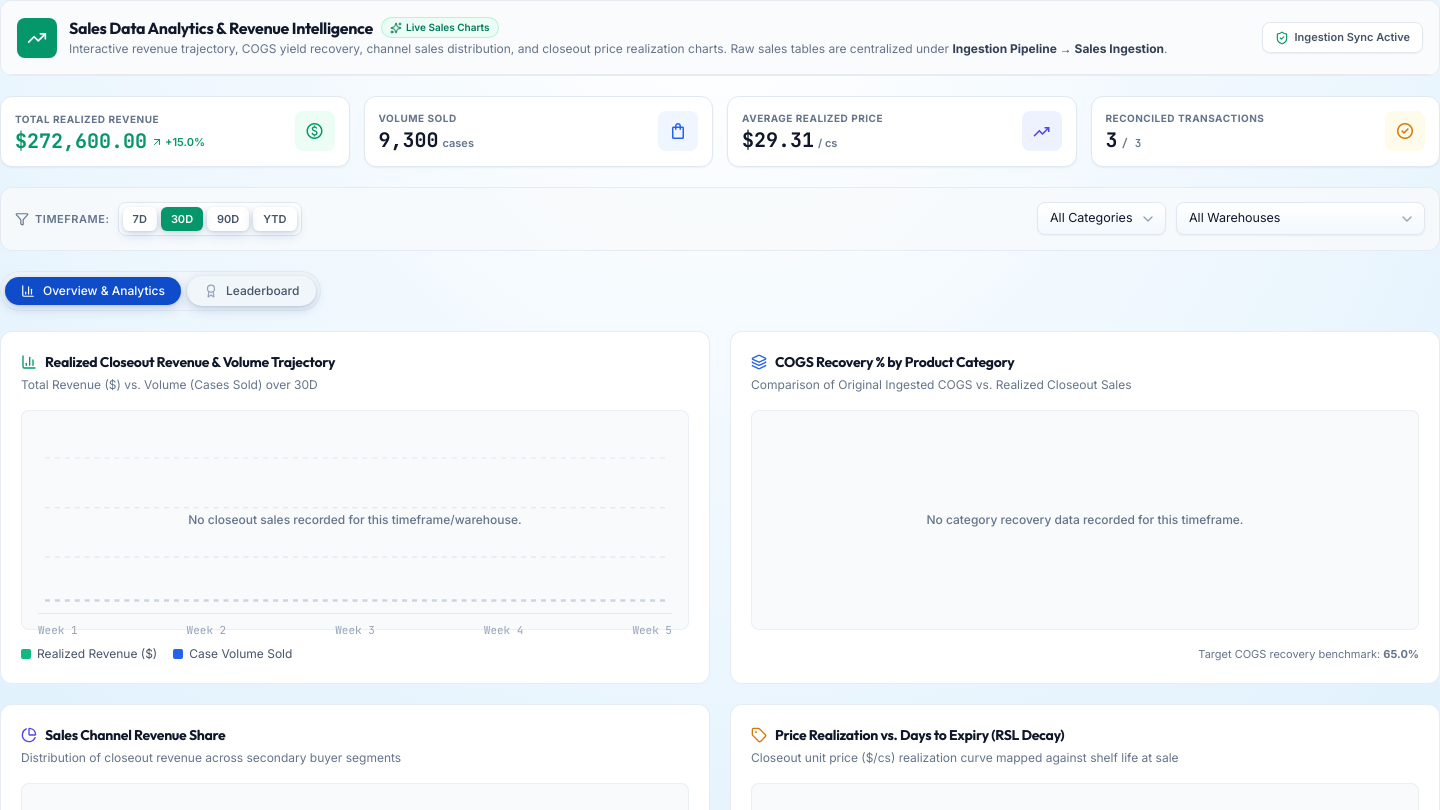
Seam: Top Warehouses / DCs Expandable Accordion & Drilldown › renders a friendly empty state when no top warehouses are returned
Click the tab "Leaderboard".
click(252, 291)  # box 187,276 -> 316,306
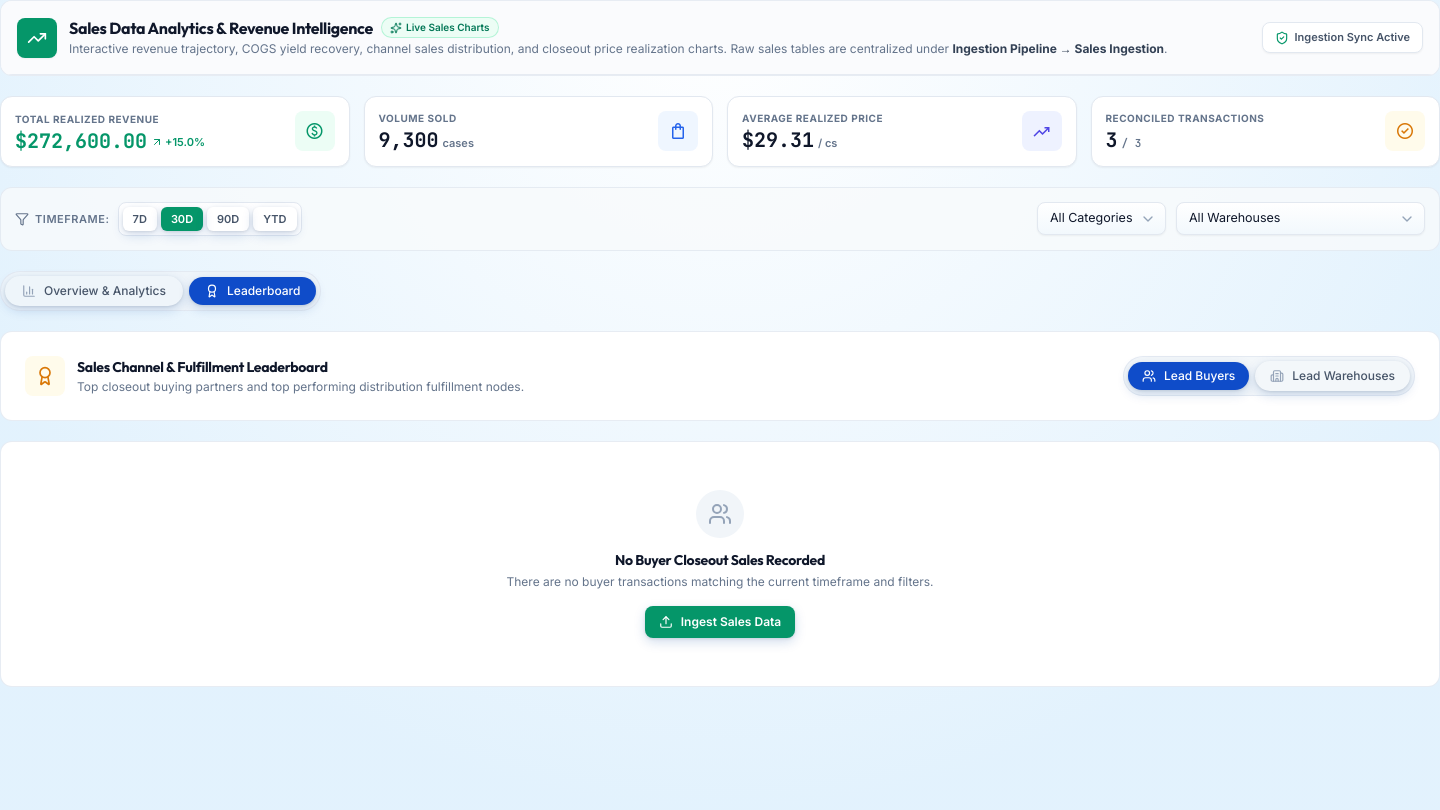
Click the tab "Lead Warehouses".
click(1333, 376)  # box 1255,361 -> 1410,391
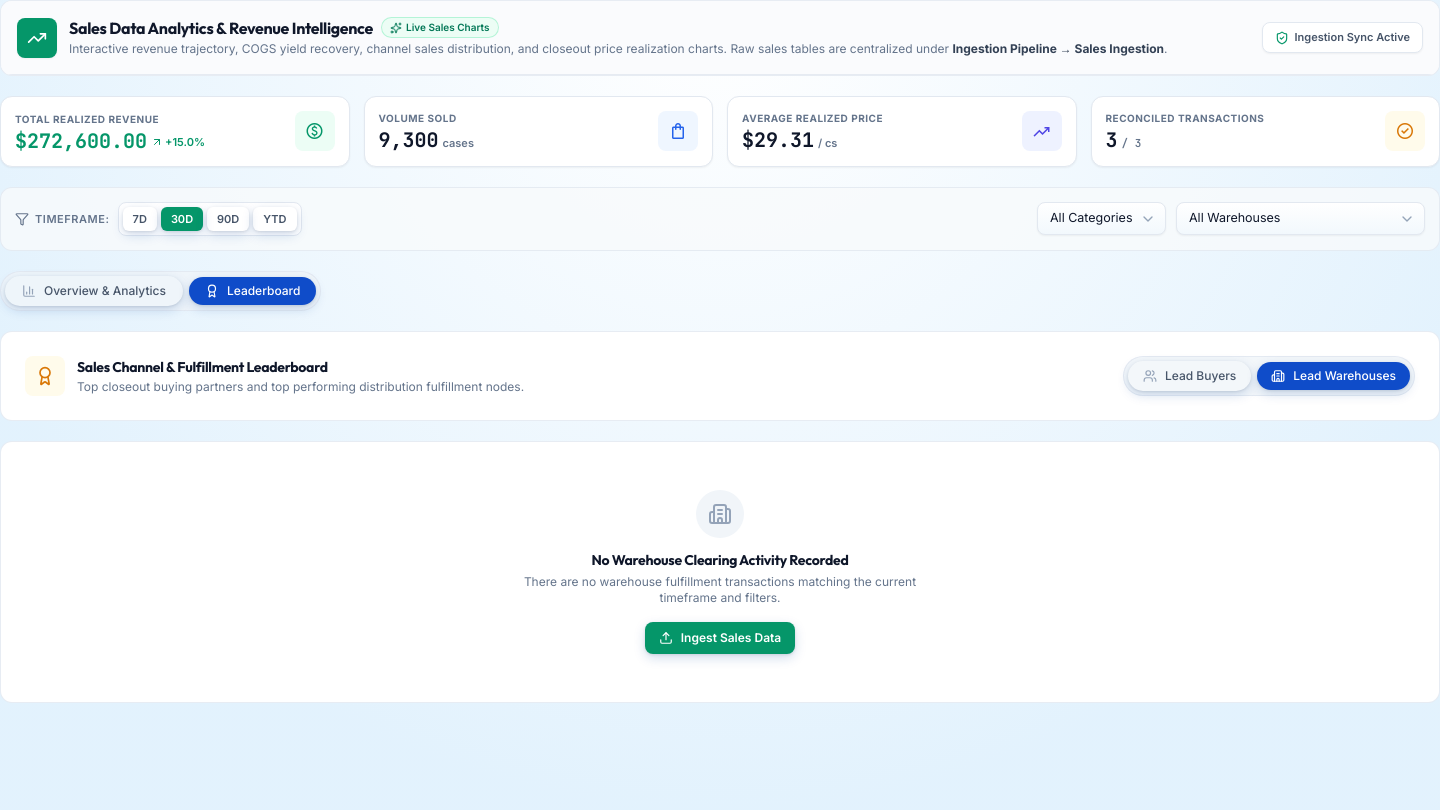
Now the element with test id "top-warehouses-empty-state" is shown, box 0,441 -> 1439,703
Now the heading "No Warehouse Clearing Activity Recorded" is shown, box 592,550 -> 848,570
